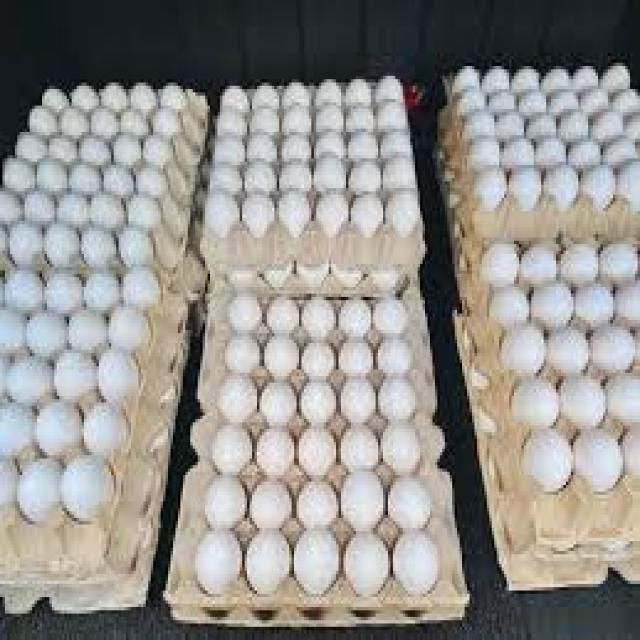White Egg: (60, 451, 117, 530), (342, 525, 392, 605), (14, 451, 65, 528), (522, 423, 573, 498), (391, 525, 442, 598), (573, 427, 625, 495), (193, 525, 241, 596), (292, 524, 342, 592), (244, 525, 293, 593), (34, 396, 82, 460), (558, 372, 610, 431), (80, 392, 127, 456), (339, 470, 386, 530), (509, 376, 561, 430), (249, 472, 295, 532), (201, 475, 248, 533), (498, 325, 550, 377), (53, 347, 98, 407), (386, 471, 433, 528), (294, 475, 340, 533), (209, 422, 254, 477), (98, 347, 141, 403), (216, 370, 258, 426), (276, 188, 314, 248), (546, 324, 590, 375), (383, 420, 424, 474), (7, 356, 54, 403), (108, 302, 149, 355), (528, 284, 577, 328), (338, 421, 380, 472), (255, 427, 297, 477), (257, 377, 299, 426), (200, 189, 240, 240), (298, 426, 338, 476), (522, 239, 561, 290), (476, 241, 520, 286), (377, 374, 419, 421), (47, 264, 86, 314), (300, 377, 338, 428), (242, 186, 276, 243), (118, 264, 161, 308), (338, 374, 377, 422), (67, 305, 107, 351), (384, 192, 422, 240), (27, 310, 65, 358), (486, 288, 531, 327), (261, 332, 299, 378), (314, 195, 351, 242), (82, 269, 124, 310), (300, 335, 336, 382), (353, 190, 383, 245), (300, 293, 338, 336), (336, 337, 375, 378), (374, 293, 408, 339), (375, 337, 414, 377), (220, 334, 261, 372), (226, 293, 263, 335), (266, 292, 298, 338), (339, 295, 373, 335)
